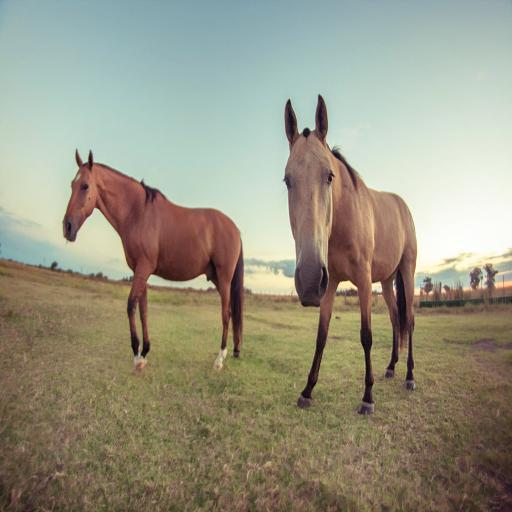Horse: (282, 94, 416, 417), (61, 148, 244, 375)
